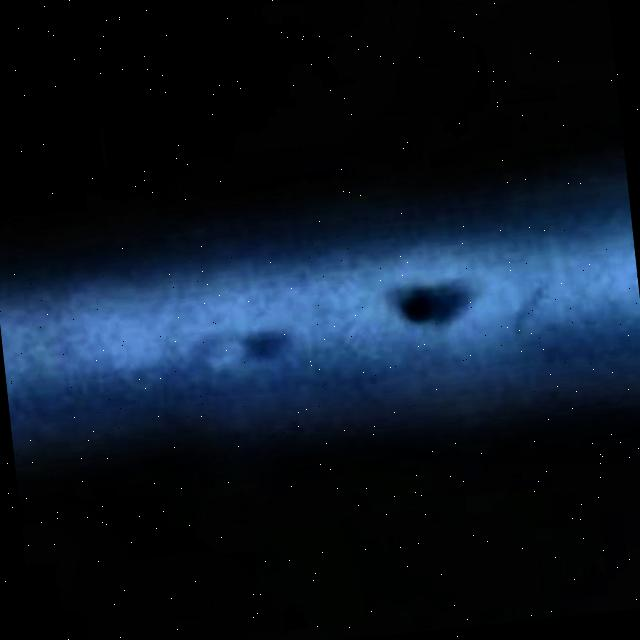Pore: (230, 312, 301, 381)
Slag: (369, 250, 508, 360)
